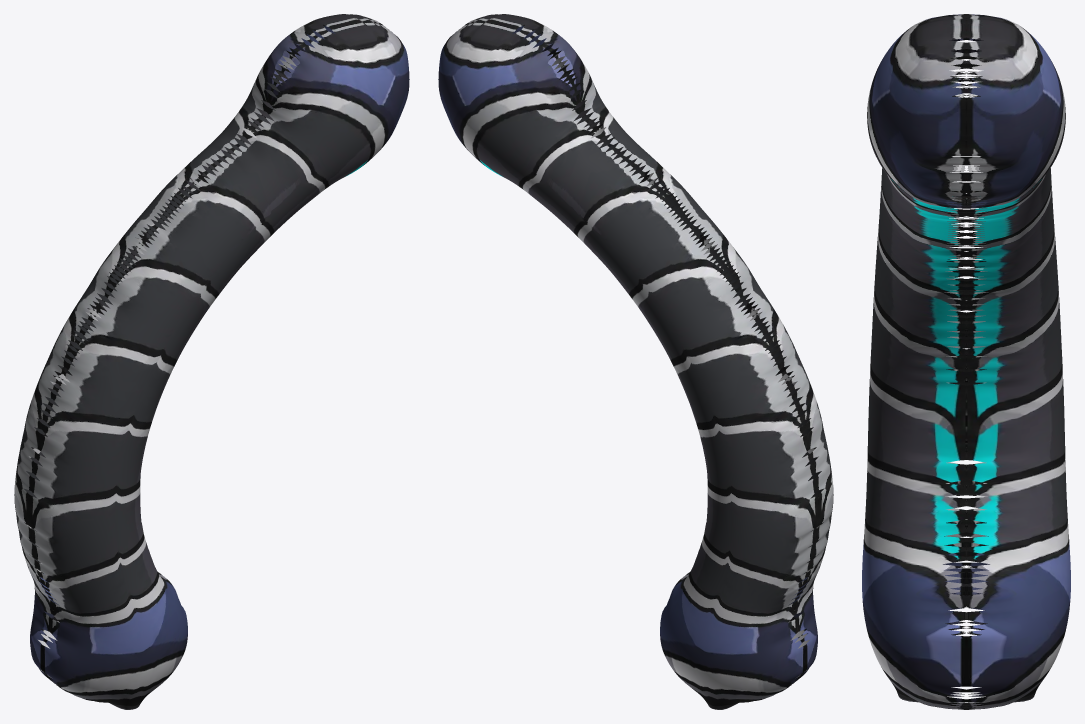
File: side_conduit.glb
3 views of the same model, side by side, from view 1: azimuth 30°, elevation 25°; view 2: azimuth 150°, elevation 25°; view 3: azimuth 270°, elevation 25° (orthographic). The views are drawn at different scales.
Parts seen in each view (by area): view 1: side_conduit; view 2: side_conduit; view 3: side_conduit.
Part boxes in pixels (<box>): side_conduit: <box>14,14,409,709</box>; side_conduit: <box>438,14,833,709</box>; side_conduit: <box>862,14,1070,709</box>.
Bounding box in the file's own units: 0.9827 × 1.56 × 0.3576.
1 material, 1 textured.
